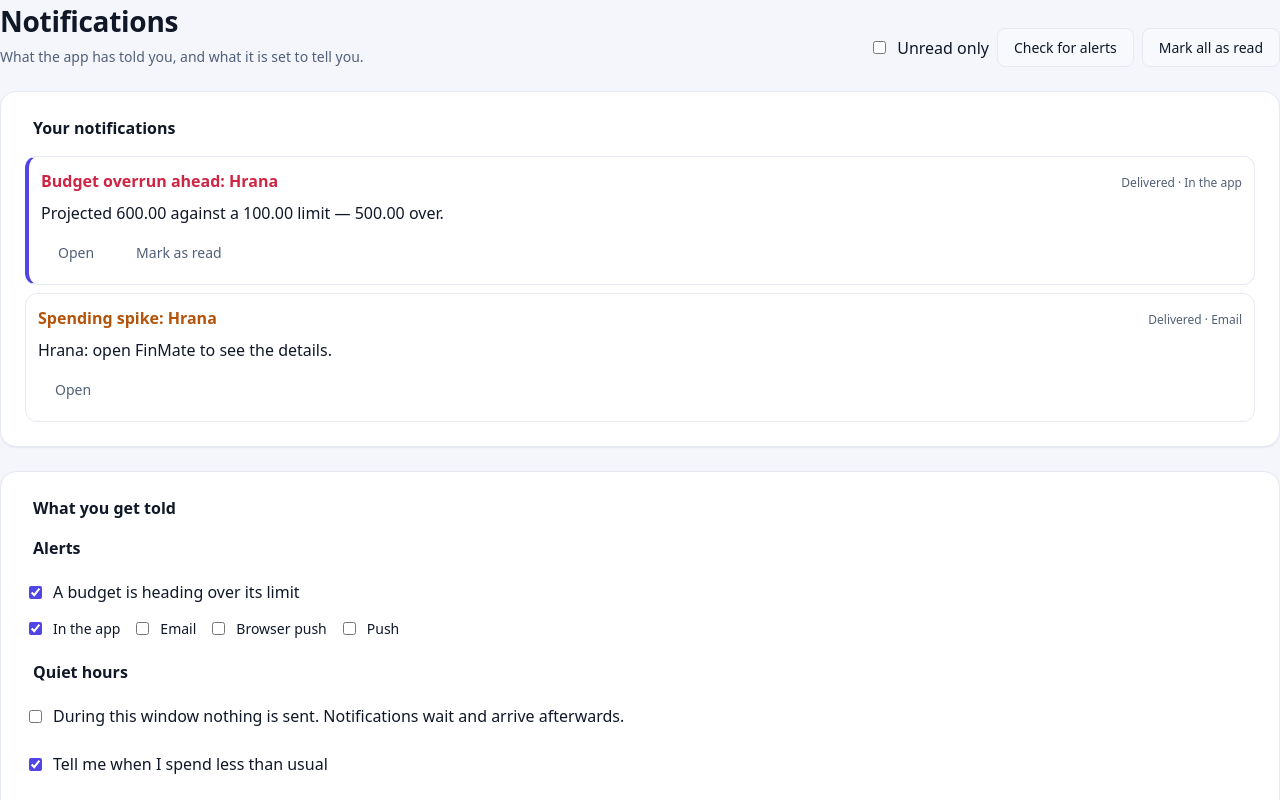
Test: NotificationsComponent (mounted) › the on-demand check › says "nothing to report" rather than leaving an empty list unexplained
Click the button "Check for alerts". click: (1065, 48)
box: [997, 28, 1134, 67]
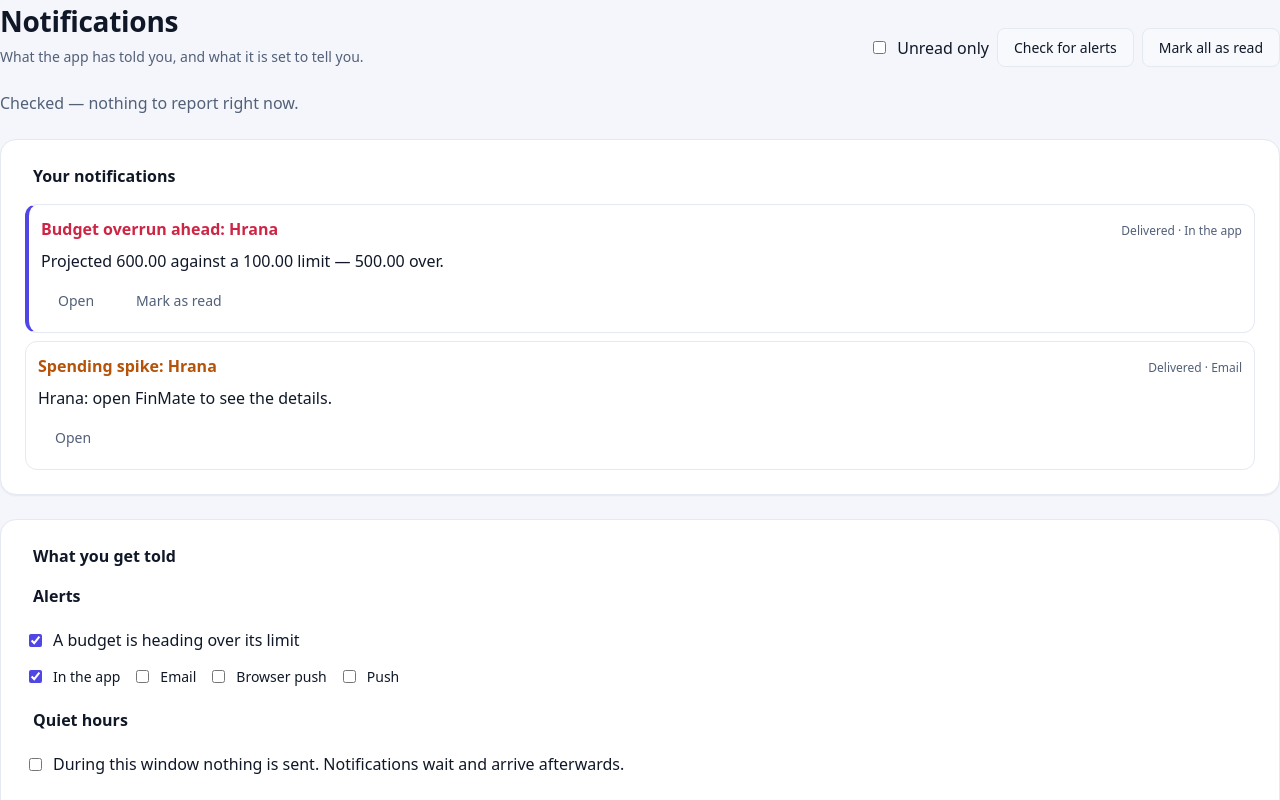
Expected: the text "nothing to report" is shown, [0, 92, 298, 114]
